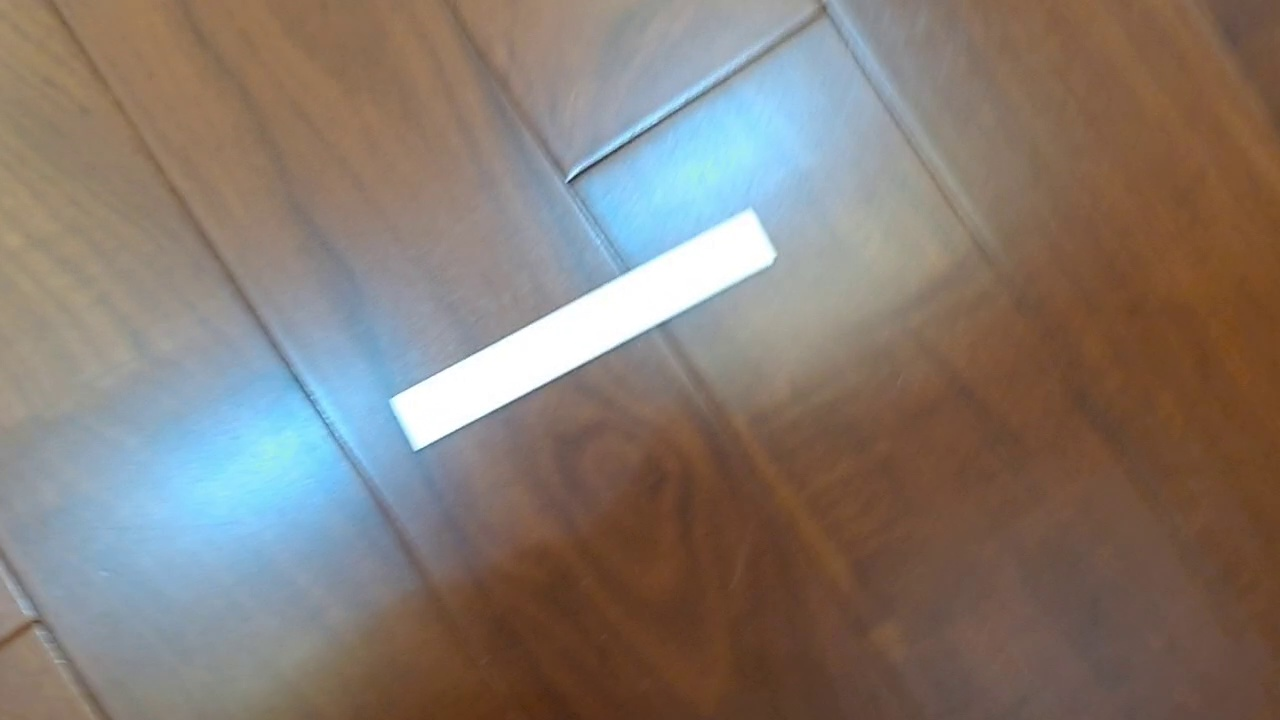ruler: (386, 204, 778, 454)
